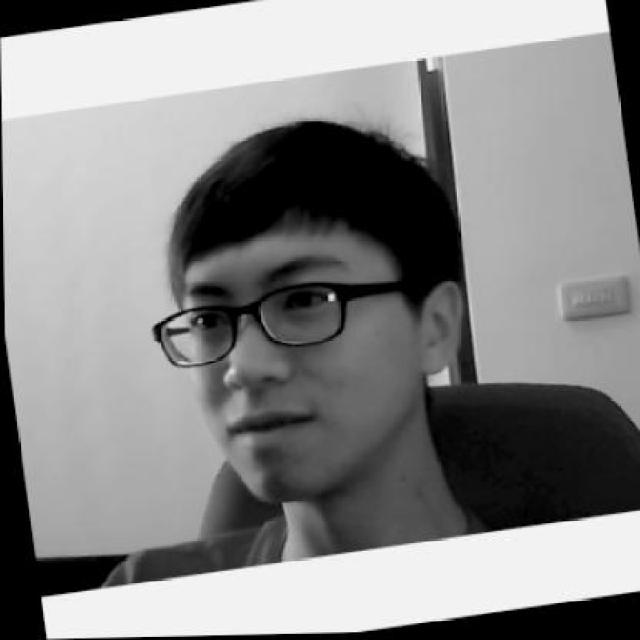attentif: (127, 98, 482, 517)
